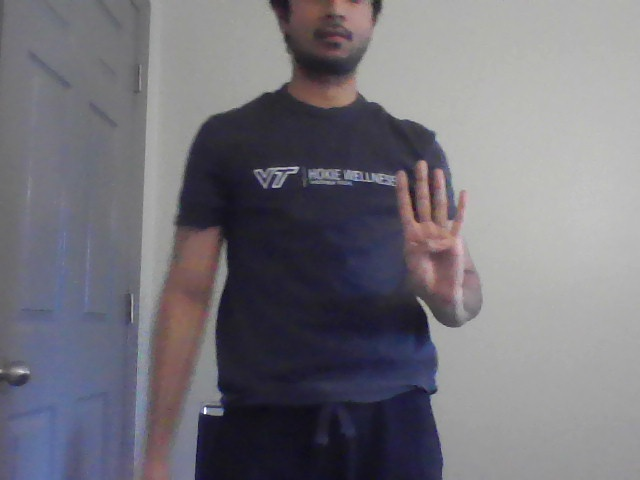four: (387, 158, 474, 289)
